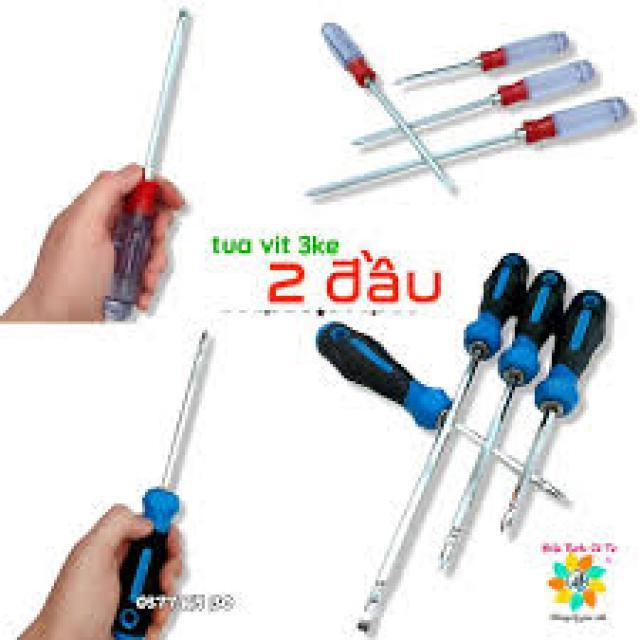screwdriver: (351, 245, 536, 638), (314, 321, 582, 515), (438, 264, 569, 572), (298, 95, 632, 204), (91, 0, 199, 324), (107, 318, 212, 640), (493, 284, 608, 540), (320, 21, 460, 195), (348, 56, 599, 150), (392, 26, 574, 88)
